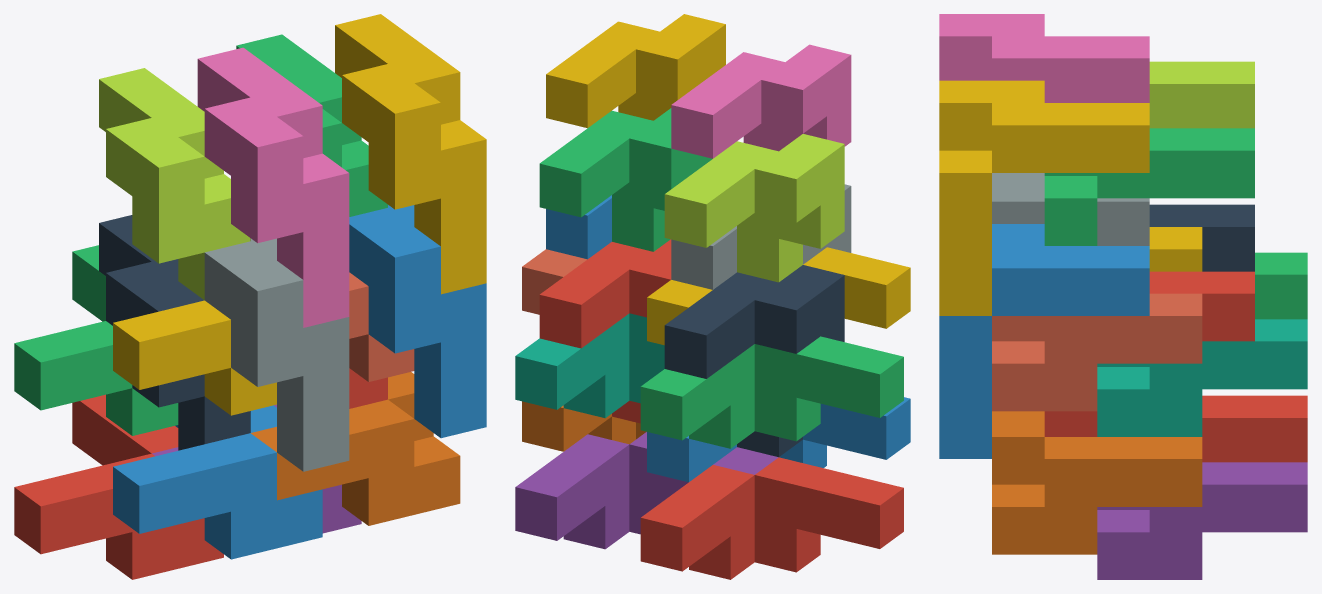
The model's file is tiling.obj.
3 views of the same model, side by side, from view 1: azimuth 30°, elevation 25°; view 2: azimuth 150°, elevation 25°; view 3: azimuth 270°, elevation 25° (orthographic). The views are drawn at different scales.
Visible parts, largest first — view 1: copy_2_domain_4, copy_2_domain_8, copy_2_domain_2, copy_2_domain_6, copy_2_domain_3, copy_1_domain_2, copy_1_domain_1, copy_1_domain_6, copy_1_domain_3, copy_1_domain_4, copy_2_domain_1, copy_2_domain_7 (+3 smaller); view 2: copy_1_domain_1, copy_1_domain_3, copy_2_domain_3, copy_2_domain_4, copy_2_domain_1, copy_2_domain_7, copy_2_domain_8, copy_1_domain_5, copy_1_domain_7, copy_2_domain_5, copy_1_domain_2, copy_1_domain_4 (+4 smaller); view 3: copy_2_domain_8, copy_1_domain_6, copy_2_domain_6, copy_1_domain_8, copy_1_domain_5, copy_1_domain_7, copy_2_domain_4, copy_2_domain_7, copy_1_domain_1, copy_2_domain_3, copy_2_domain_5, copy_2_domain_2 (+3 smaller).
Boxes of the visible parts, x1,y1,x2,y2 form: copy_2_domain_4: [197, 47, 349, 327]; copy_2_domain_8: [335, 14, 486, 294]; copy_2_domain_2: [204, 238, 349, 471]; copy_2_domain_6: [349, 205, 486, 438]; copy_2_domain_3: [99, 68, 250, 299]; copy_1_domain_2: [113, 405, 322, 559]; copy_1_domain_1: [14, 394, 223, 579]; copy_1_domain_6: [251, 372, 460, 525]; copy_1_domain_3: [14, 245, 178, 435]; copy_1_domain_4: [113, 300, 276, 415]; copy_2_domain_1: [99, 215, 250, 450]; copy_2_domain_7: [236, 34, 387, 216]; copy_1_domain_1: [640, 457, 903, 579]; copy_1_domain_3: [640, 336, 903, 448]; copy_2_domain_3: [664, 134, 844, 282]; copy_2_domain_4: [671, 44, 851, 158]; copy_2_domain_1: [664, 265, 844, 457]; copy_2_domain_7: [539, 108, 712, 251]; copy_2_domain_8: [546, 14, 725, 128]; copy_1_domain_5: [515, 432, 778, 549]; copy_1_domain_7: [515, 313, 664, 418]; copy_2_domain_5: [539, 239, 671, 423]; copy_1_domain_2: [647, 397, 910, 482]; copy_1_domain_4: [647, 247, 910, 345]; copy_2_domain_8: [939, 80, 1149, 315]; copy_1_domain_6: [992, 411, 1202, 554]; copy_2_domain_6: [939, 224, 1149, 458]; copy_1_domain_8: [992, 293, 1202, 411]; copy_1_domain_5: [1097, 462, 1307, 579]; copy_1_domain_7: [1097, 319, 1307, 436]; copy_2_domain_4: [939, 14, 1149, 102]; copy_2_domain_7: [1044, 128, 1254, 245]; copy_1_domain_1: [1202, 395, 1307, 462]; copy_2_domain_3: [1149, 61, 1254, 128]; copy_2_domain_5: [1044, 271, 1254, 436]; copy_2_domain_2: [992, 173, 1149, 245].
Size of the model in its own units: 8 by 10 by 7.
